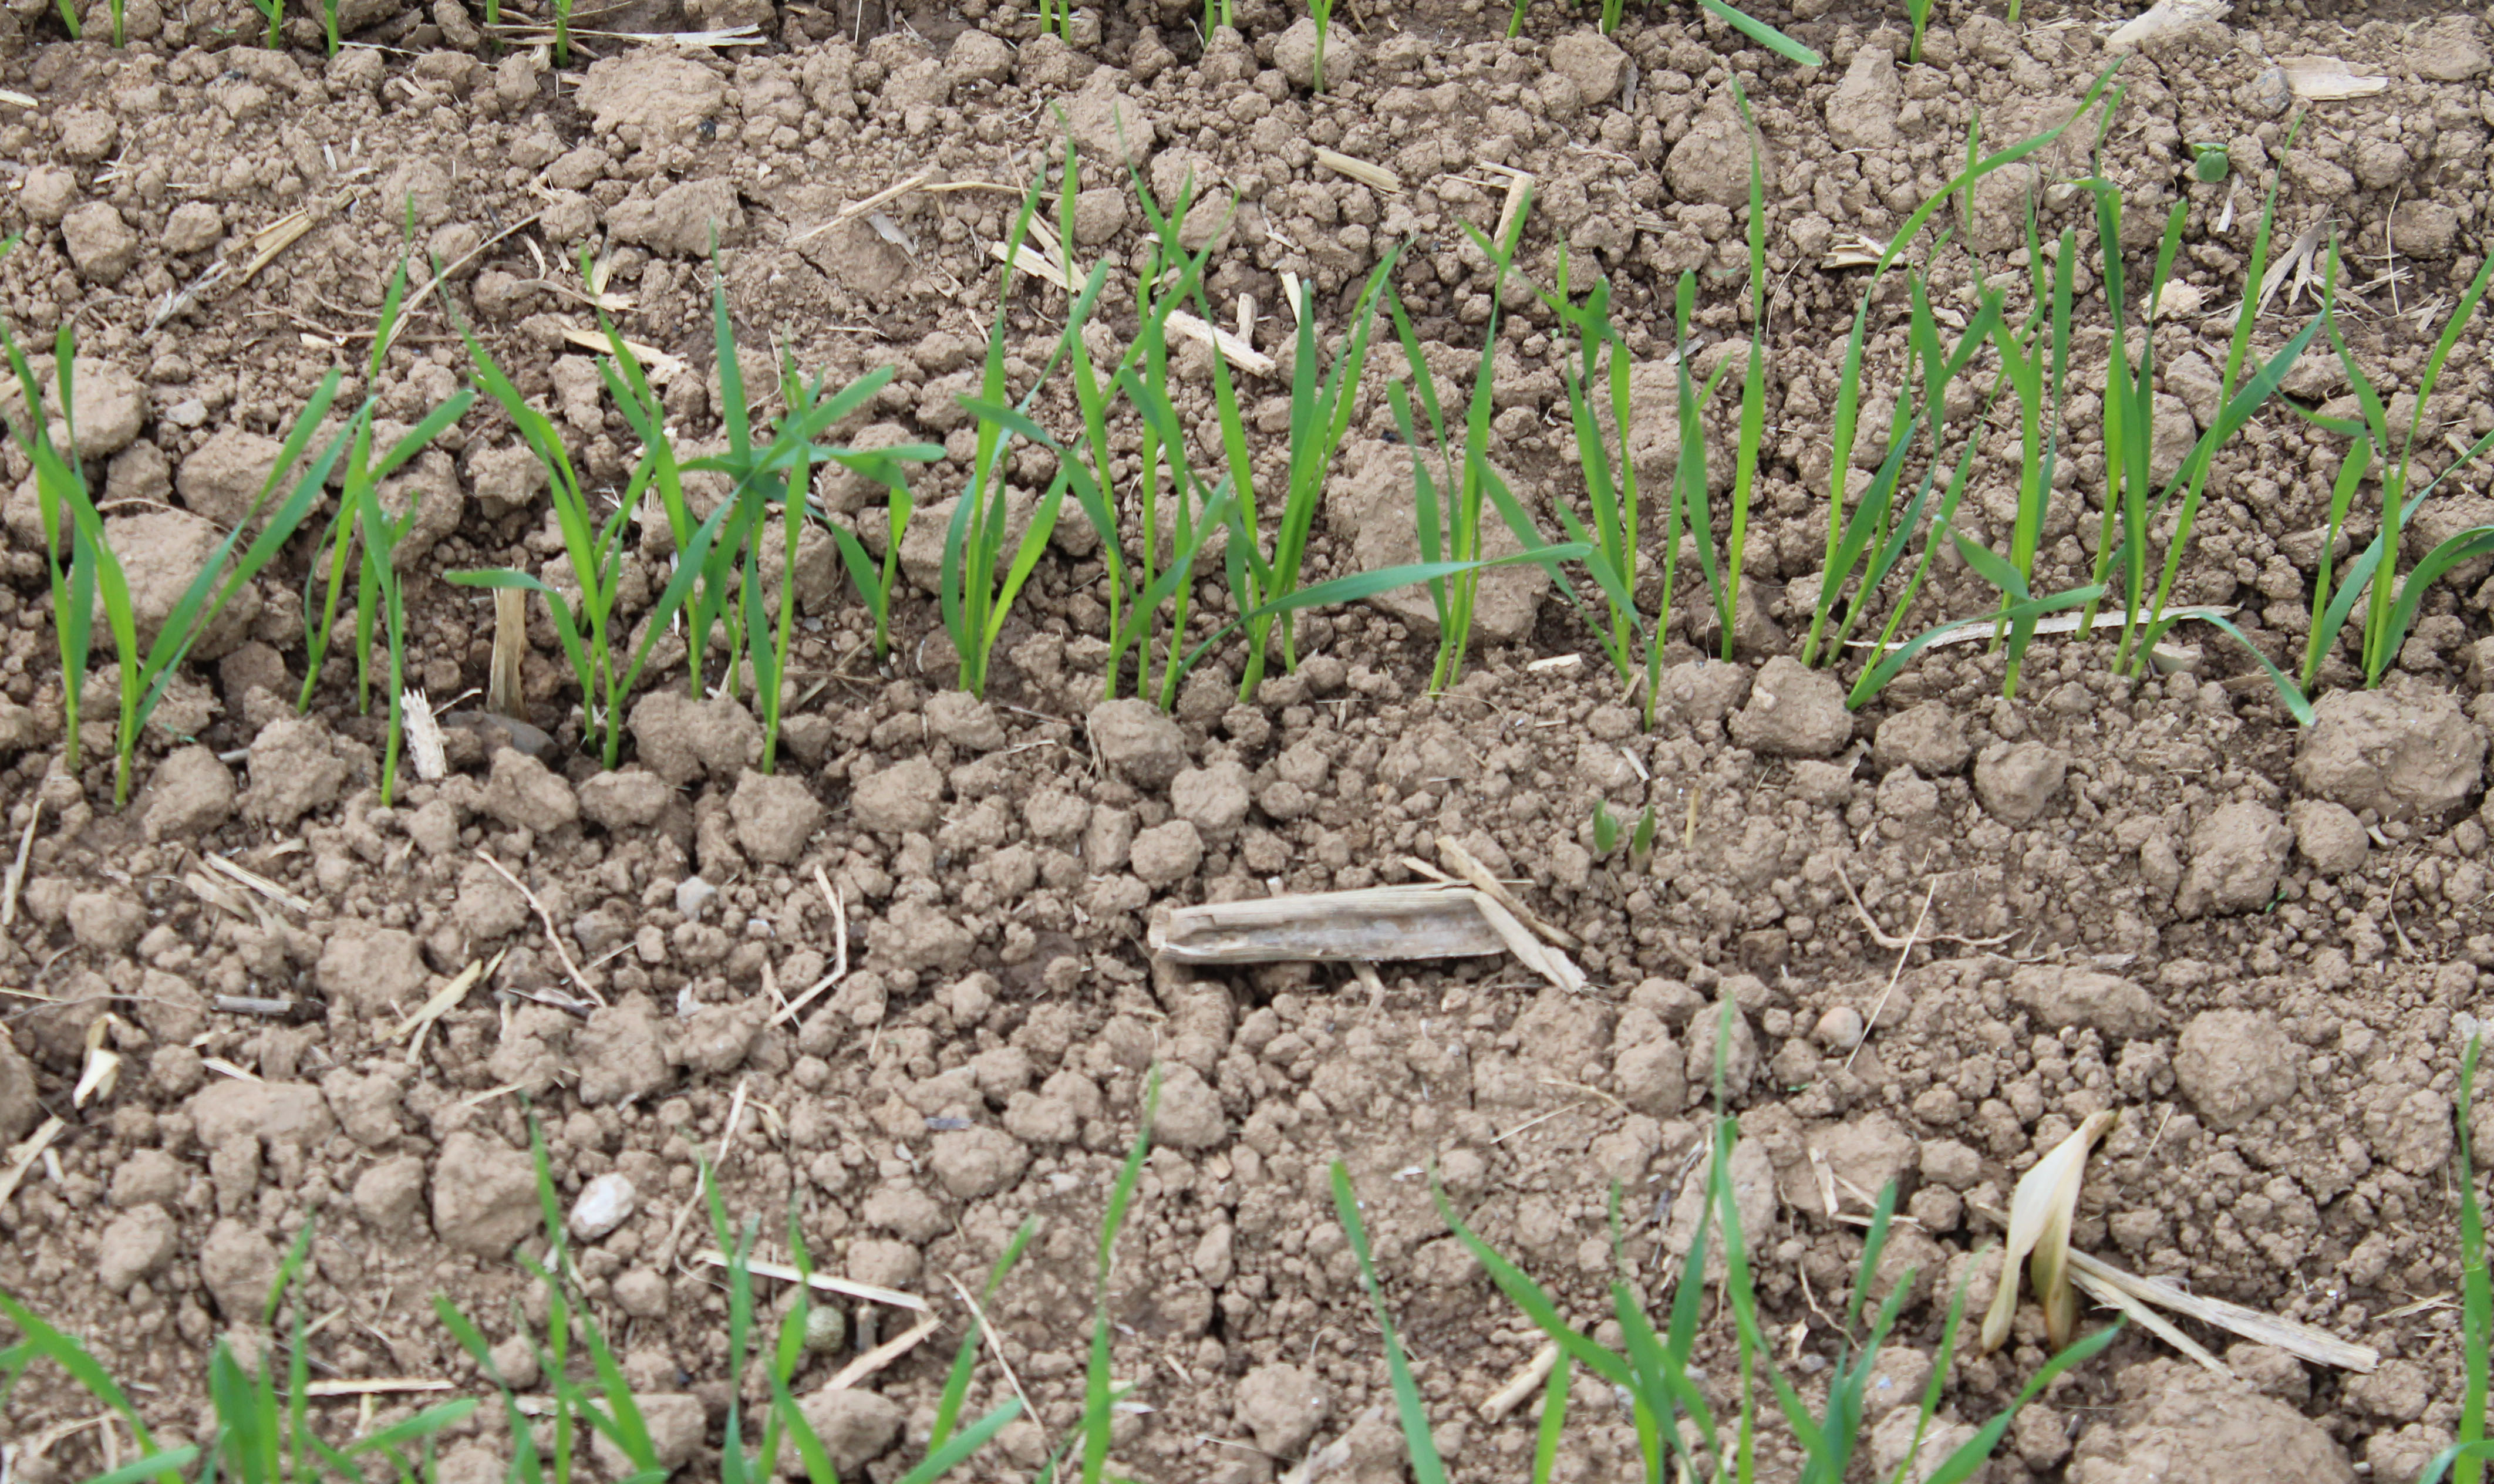wheat: (106, 634, 155, 802), (44, 608, 90, 774), (853, 537, 899, 663), (1095, 578, 1127, 712), (1706, 564, 1745, 668), (297, 583, 325, 721), (758, 652, 790, 774), (382, 647, 404, 814), (606, 655, 636, 774), (350, 576, 374, 719), (1418, 611, 1452, 703), (2305, 578, 2328, 696), (1639, 652, 1671, 735), (574, 645, 597, 758), (1159, 627, 1187, 719), (687, 615, 712, 708), (2363, 611, 2388, 698), (1795, 604, 1823, 671), (1281, 618, 1305, 680), (1136, 631, 1152, 708), (2111, 627, 2132, 677)
